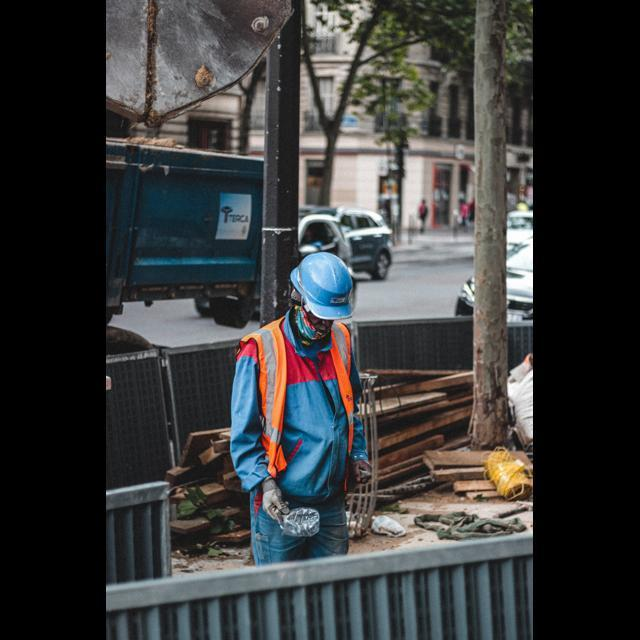helmet: (286, 253, 362, 320)
safety_vest: (242, 308, 362, 506)
